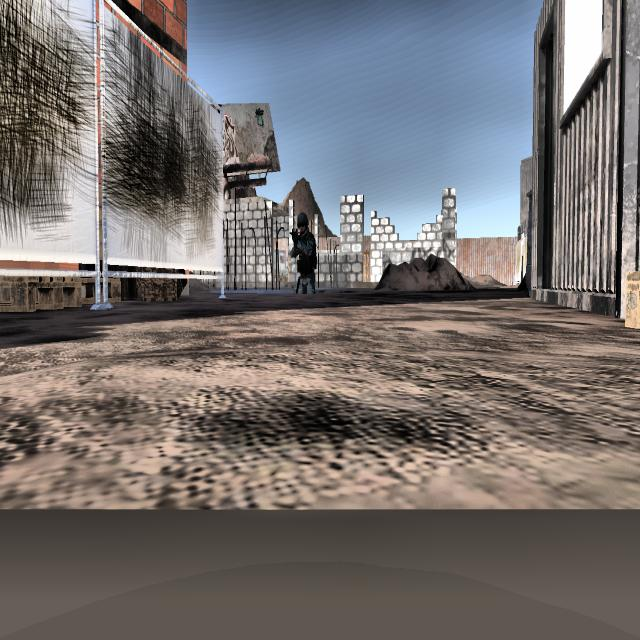bad: (281, 195, 326, 297)
